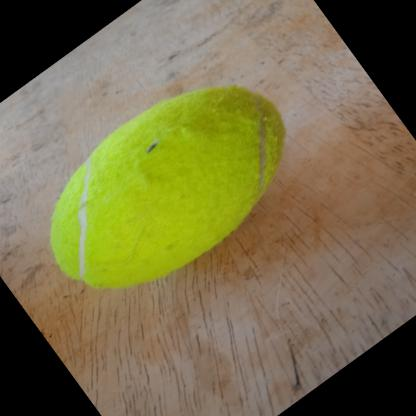Tennis: (7, 41, 326, 332)
